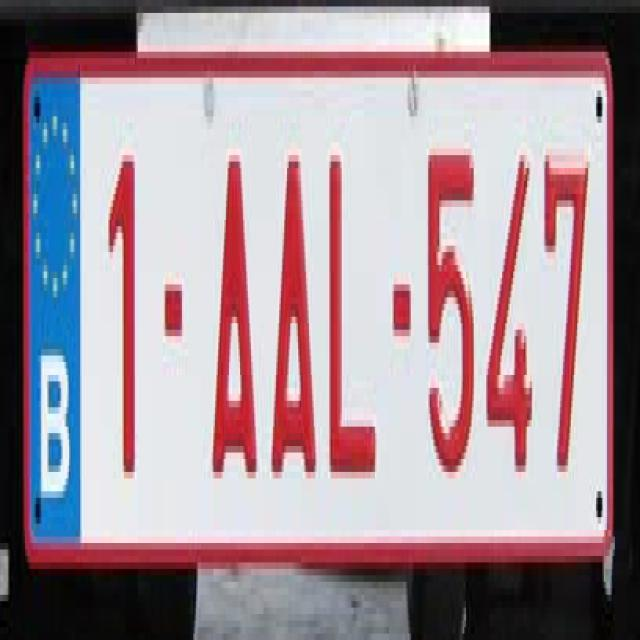Belgique: (28, 59, 84, 544)
EU: (27, 51, 614, 561)
